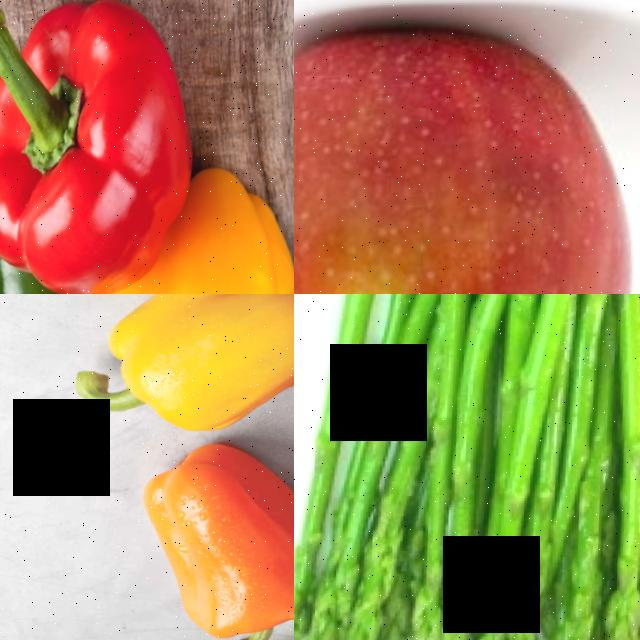apple: (294, 0, 640, 294)
asparagus: (379, 305, 519, 640), (314, 294, 438, 640), (457, 305, 579, 640), (536, 307, 640, 640), (581, 294, 640, 640)
bell pepper: (0, 0, 209, 271), (57, 294, 294, 439), (120, 441, 294, 631)
